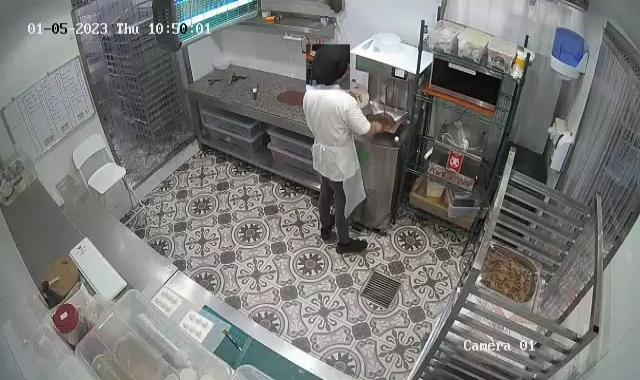no_hairnet: (310, 40, 350, 86)
